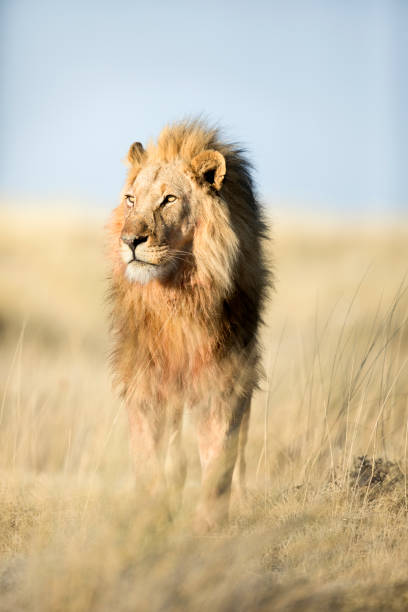lion: (72, 85, 359, 445)
